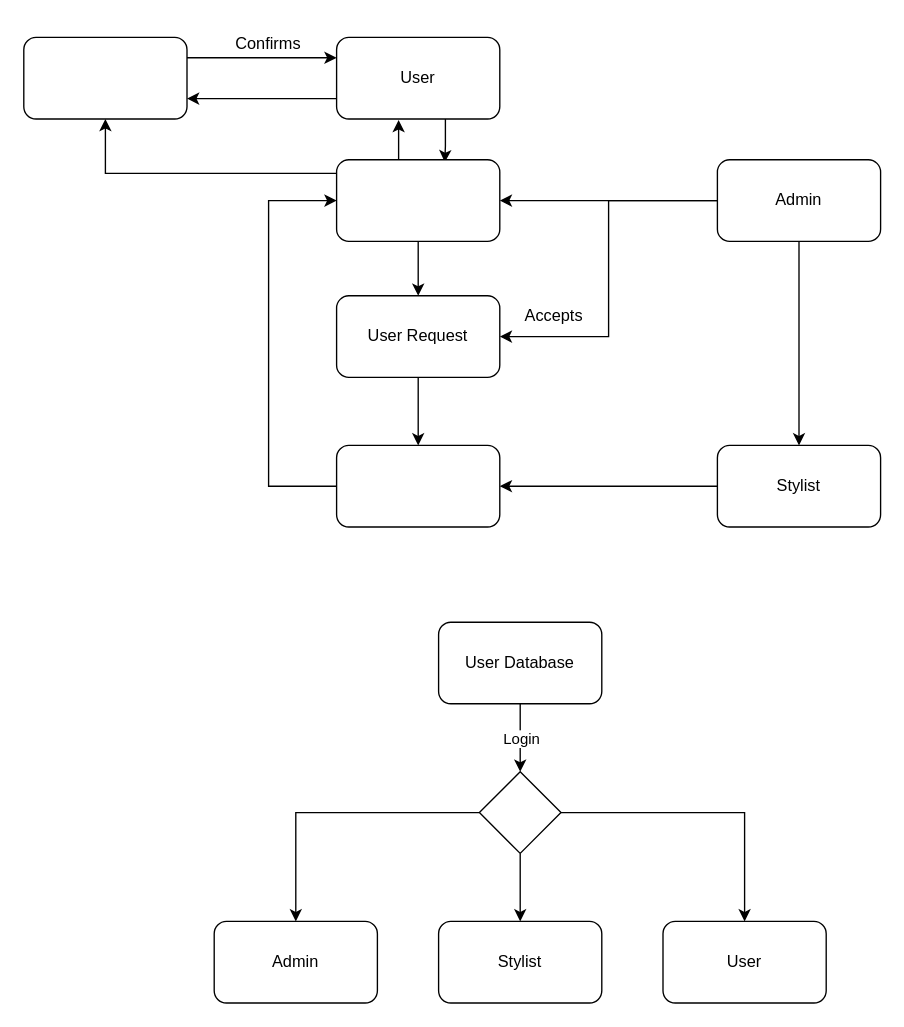
Image size: 904x1027. Some labels were removed from this diagram. Each missing label, with the centre of its shape:
"Perms:" belongs at (519,811).
"Public Schedule" belongs at (417,485).
"Session ID" belongs at (104,77).
"User Data" belongs at (417,199).
